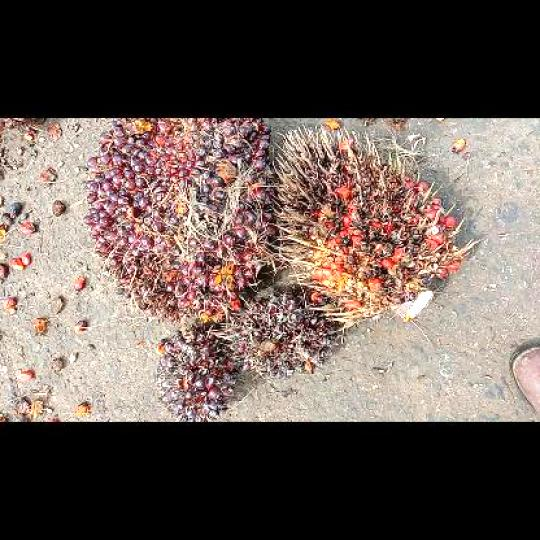masak: (80, 118, 281, 326)
terlalu masak: (269, 122, 466, 322)
